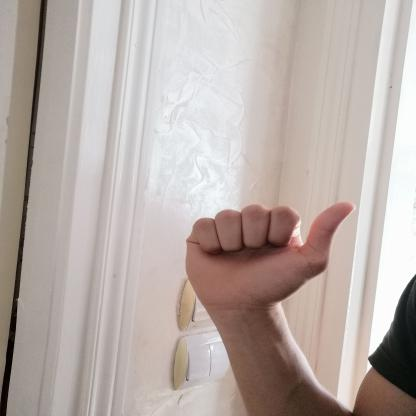DAD: (172, 191, 369, 318)
